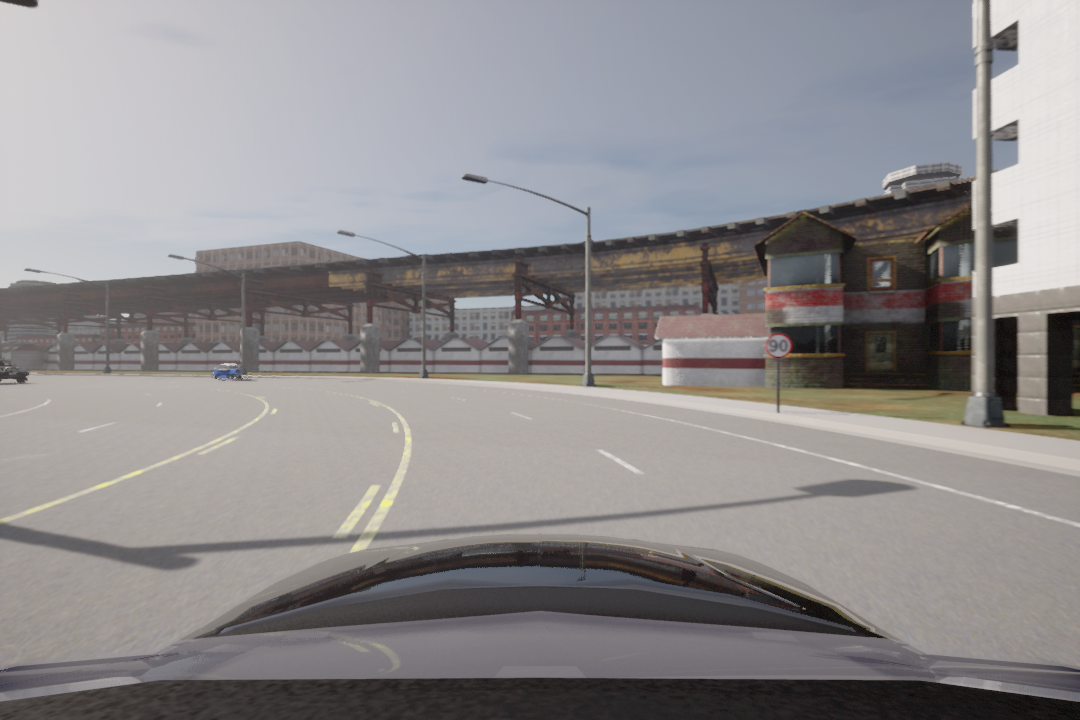TrafficSign_speed: (763, 331, 794, 361)
